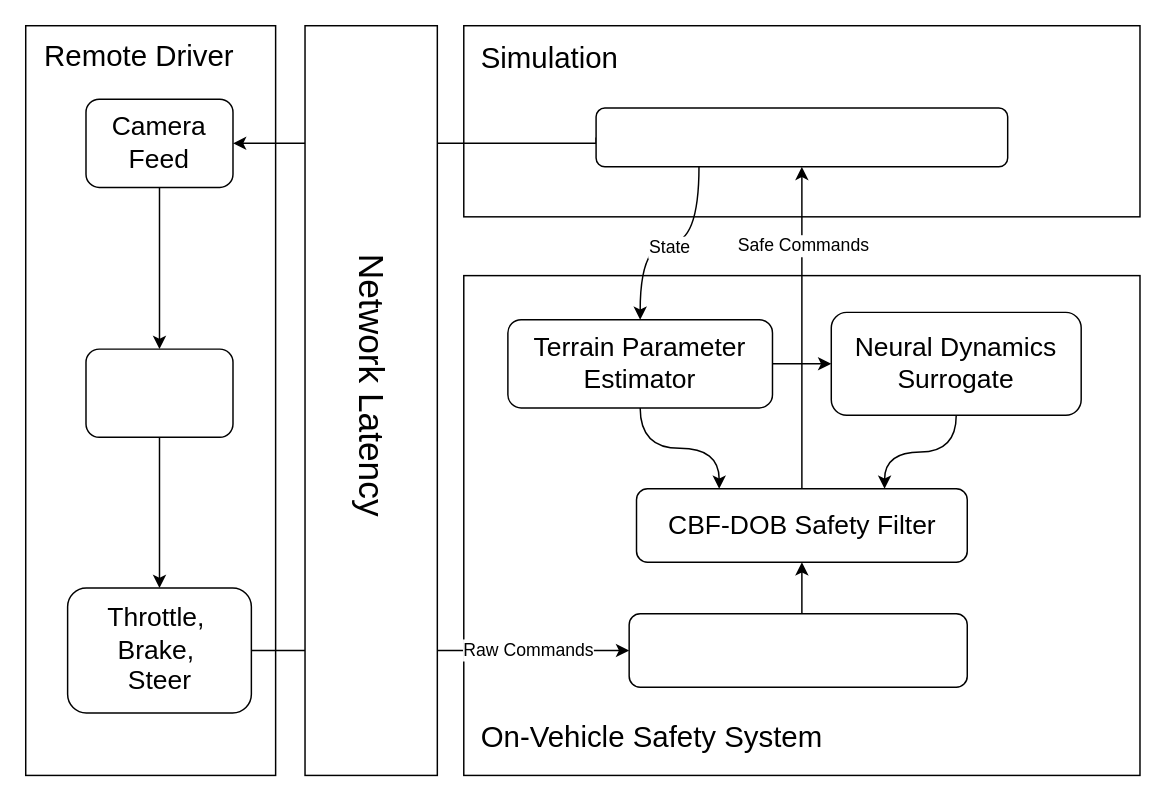
The diagram is 1166 pixels wide and 801 high, and some of its shapes have lost their labels. The shapes that lost their labels are listed below. From the top down, each one's box as (x1, y1, x2, y2) in pixels, then its label:
(595, 107, 1008, 167): Chrono/Vehicle Simulation
(85, 348, 233, 437): Driver
(628, 612, 967, 687): Delay Compensation
